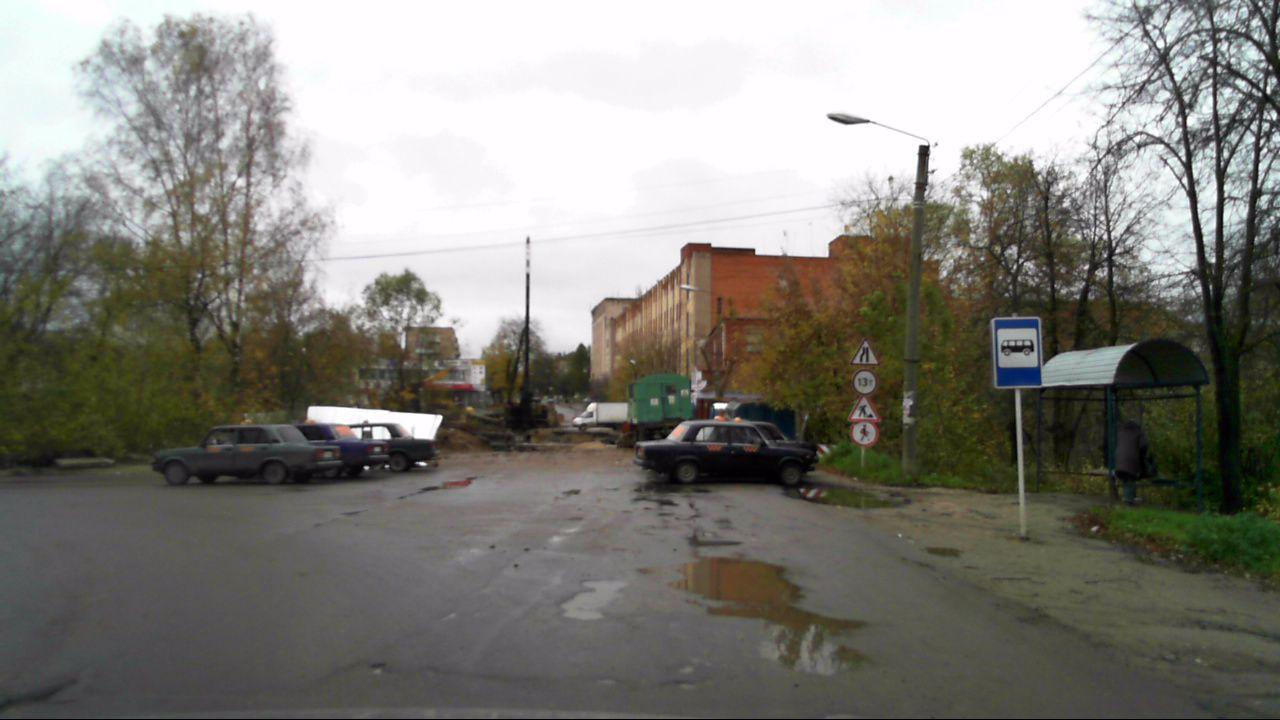1_20_3: (851, 338, 880, 365)
1_25: (848, 394, 881, 421)
3_10: (848, 422, 879, 447)
3_11: (850, 367, 878, 395)
5_16: (993, 318, 1045, 388)
